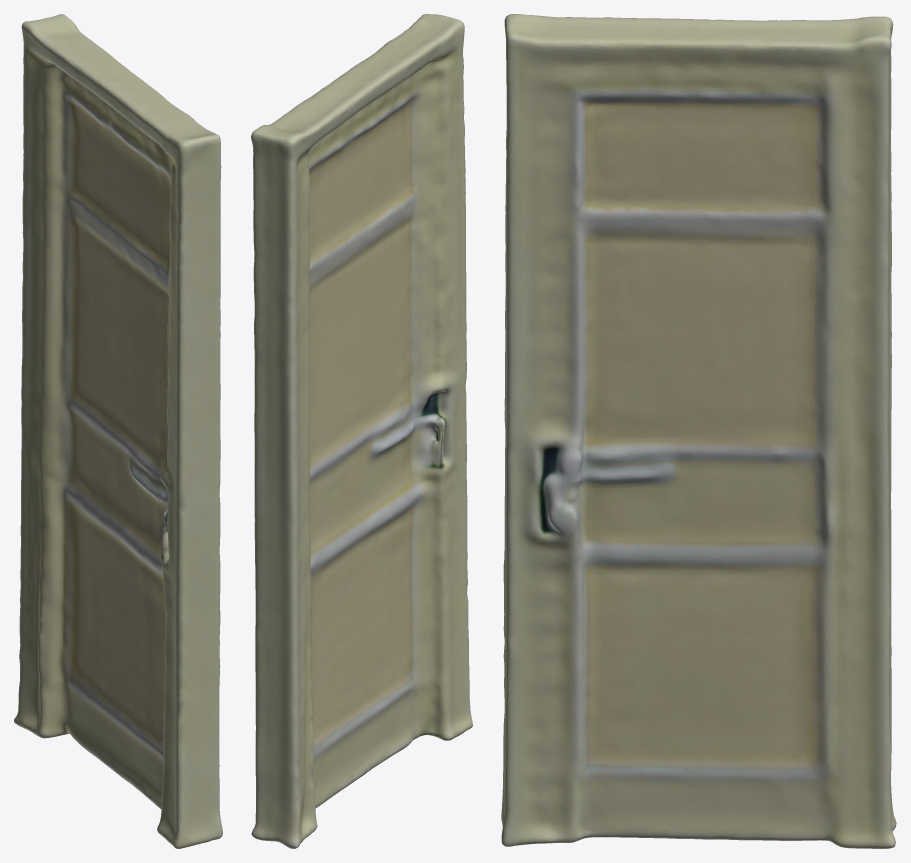
Rendered from 25b0b5416972_tag_with_text__the_.fbx.
3 renders of one model, left to right at view 1: azimuth 30°, elevation 25°; view 2: azimuth 150°, elevation 25°; view 3: azimuth 270°, elevation 25°, orthographic. The views are drawn at different scales.
Visible parts, largest first — view 1: high_poly; view 2: high_poly; view 3: high_poly.
Part boxes in pixels (x1,y1,x2,y2): high_poly: [14, 14, 222, 848]; high_poly: [251, 14, 472, 848]; high_poly: [501, 14, 896, 848].
Size of the model in its own units: 8.44 by 100 by 43.81.
